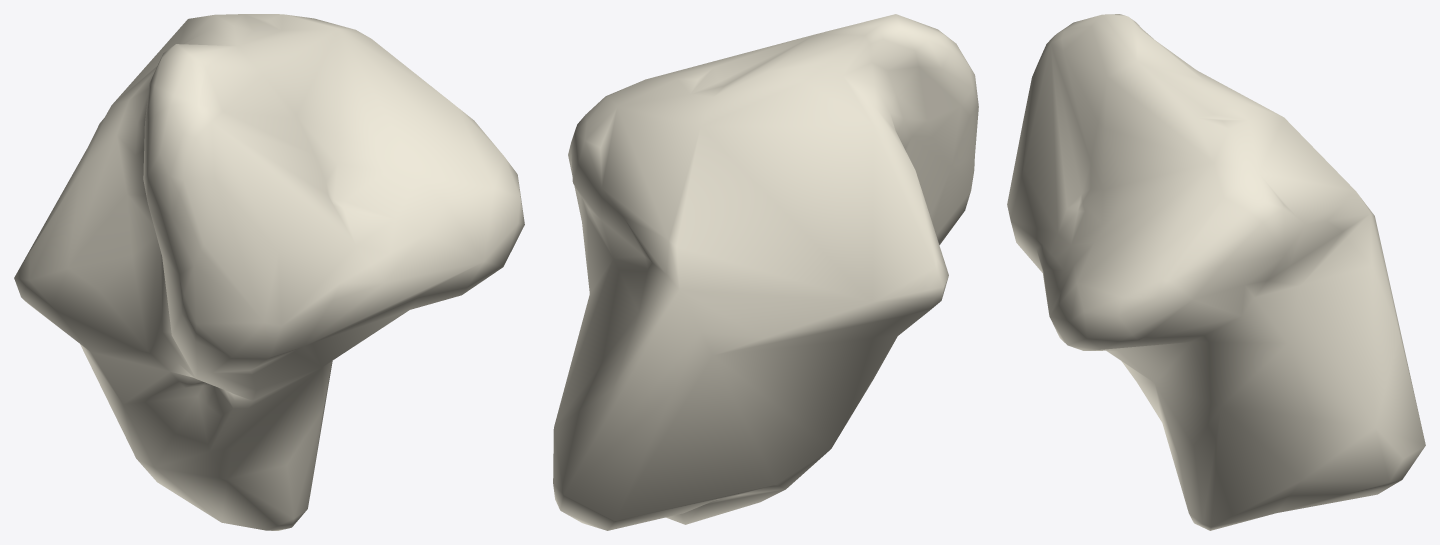
3 views of the same model, side by side, from view 1: azimuth 30°, elevation 25°; view 2: azimuth 150°, elevation 25°; view 3: azimuth 270°, elevation 25° (orthographic). The views are drawn at different scales.
Parts seen in each view (by area): view 1: ZA_af5fa22f78a8df60; view 2: ZA_af5fa22f78a8df60; view 3: ZA_af5fa22f78a8df60.
Part boxes in pixels (x1=…): ZA_af5fa22f78a8df60: x1=14, y1=14, x2=524, y2=530; ZA_af5fa22f78a8df60: x1=553, y1=14, x2=978, y2=530; ZA_af5fa22f78a8df60: x1=1007, y1=14, x2=1425, y2=530.
Size of the model in its own units: 0.0177 by 0.0208 by 0.0175.
